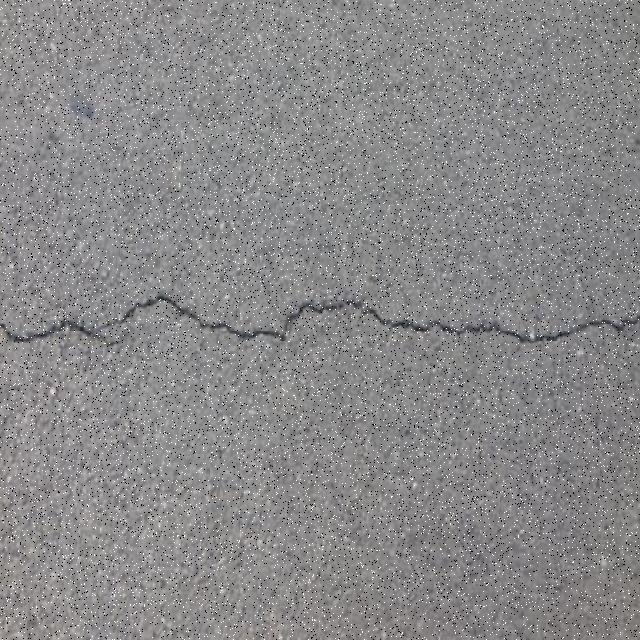Crack: (0, 272, 640, 368)
